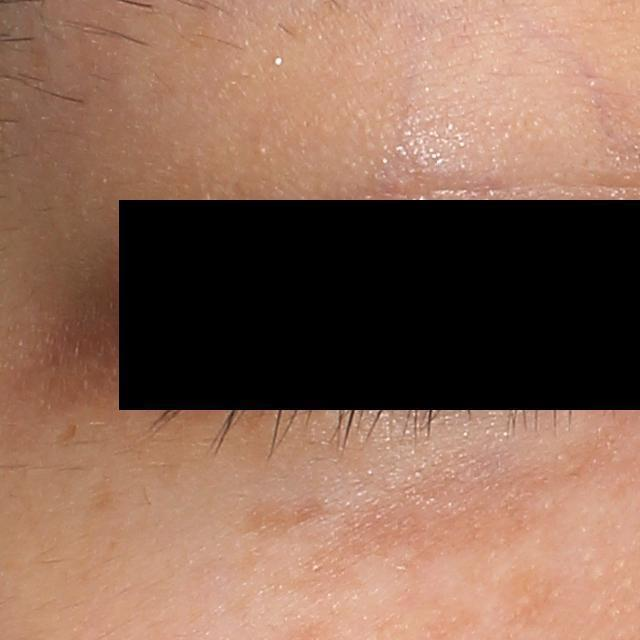melasma: (501, 561, 567, 628), (245, 490, 334, 535), (83, 473, 115, 516), (55, 424, 78, 451)
